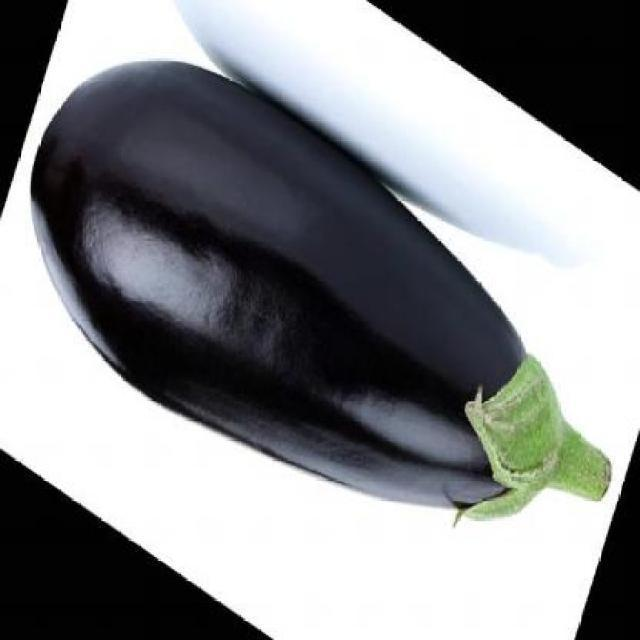eggplant: (29, 59, 619, 532)
